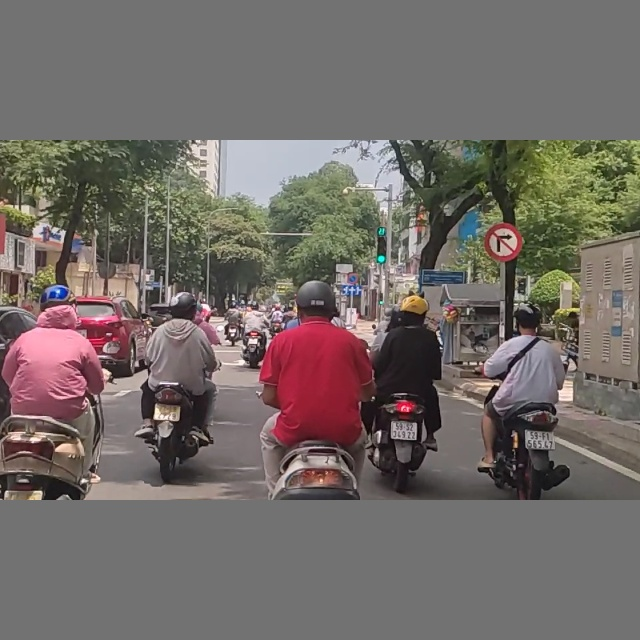P.123b: (487, 223, 523, 261)
P.131a: (345, 272, 358, 285)
